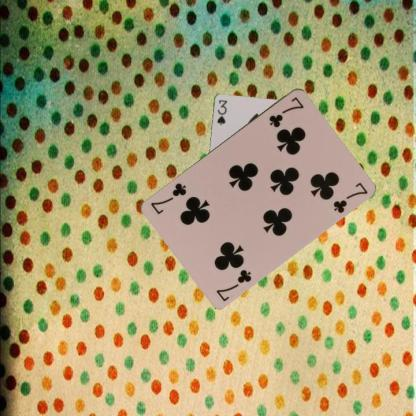3s: (214, 97, 229, 126)
7c: (214, 266, 253, 302), (266, 93, 305, 128)
